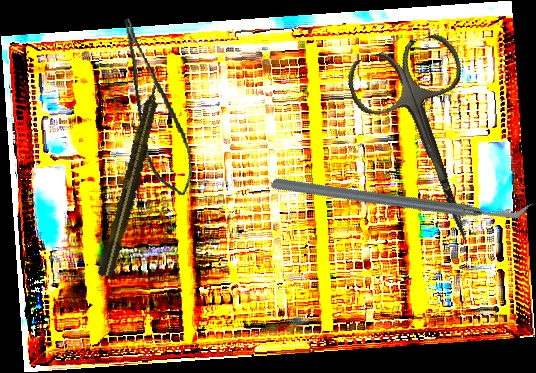Chopper: (269, 83, 534, 310)
Handpiece: (95, 74, 168, 279)
Iris Scissors: (341, 28, 517, 260)
Micro Scissor: (117, 11, 200, 202)
